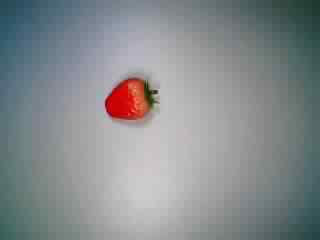strawberry: (98, 63, 166, 127)
